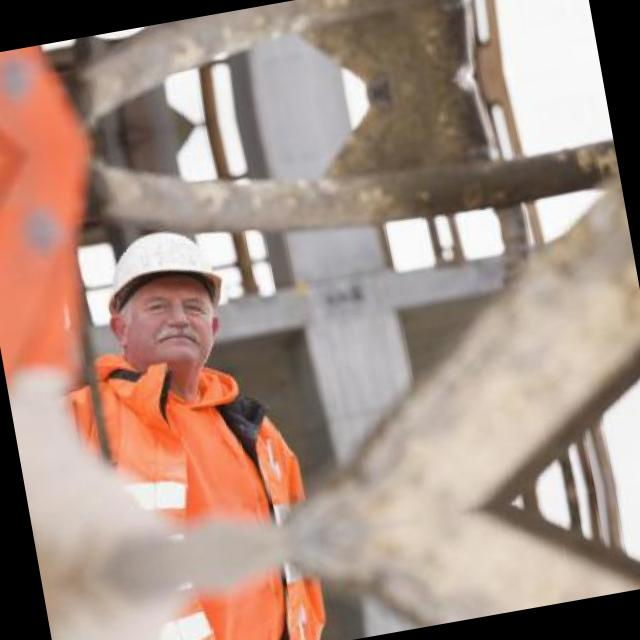helmet: (77, 199, 249, 402)
